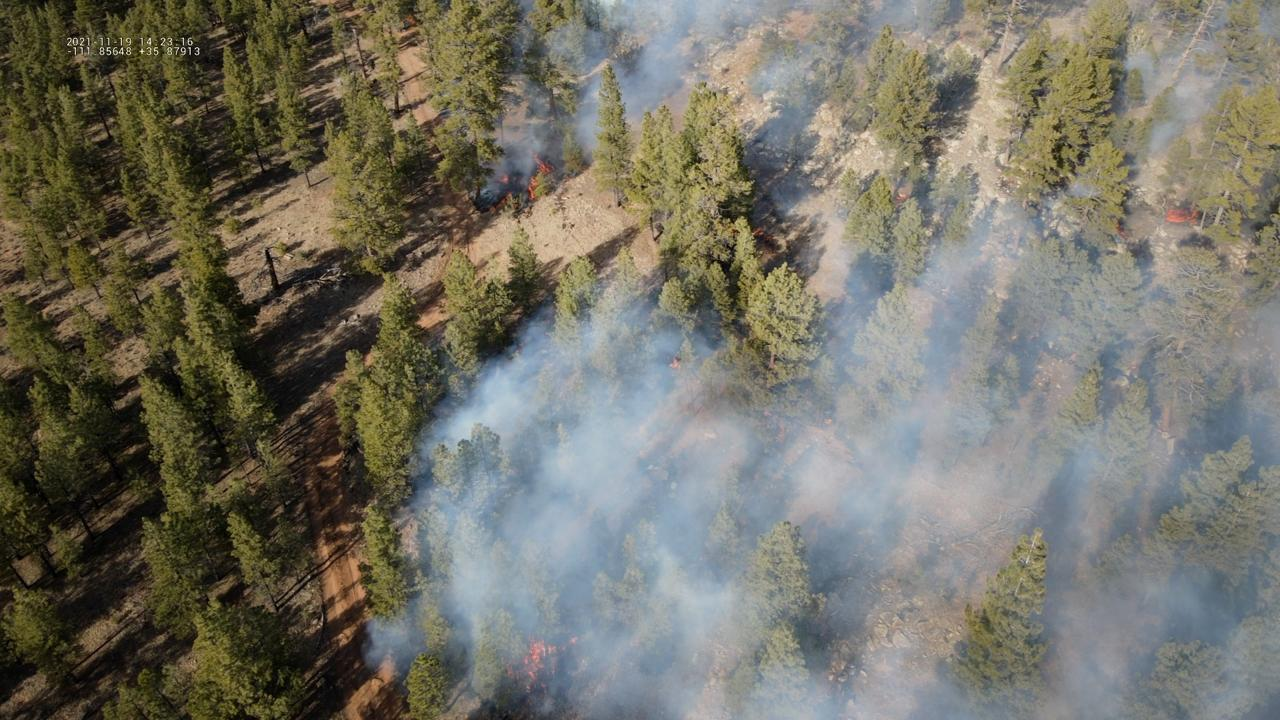fire: (501, 633, 580, 694), (526, 151, 556, 202), (1166, 207, 1200, 226), (489, 192, 513, 215), (1115, 222, 1129, 241), (668, 357, 681, 370), (493, 174, 509, 184), (893, 192, 907, 203), (750, 227, 764, 236)
smoke: (355, 0, 1280, 720)
